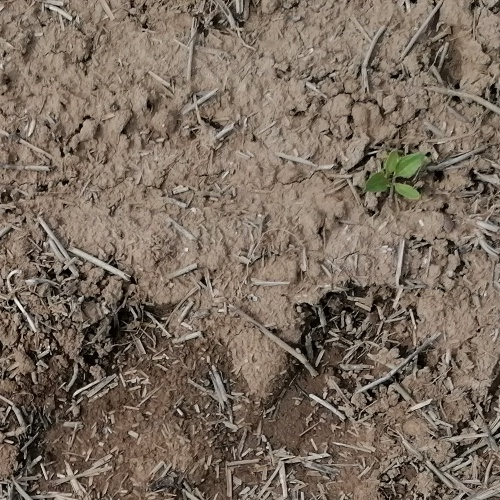beet: (364, 149, 427, 200)
